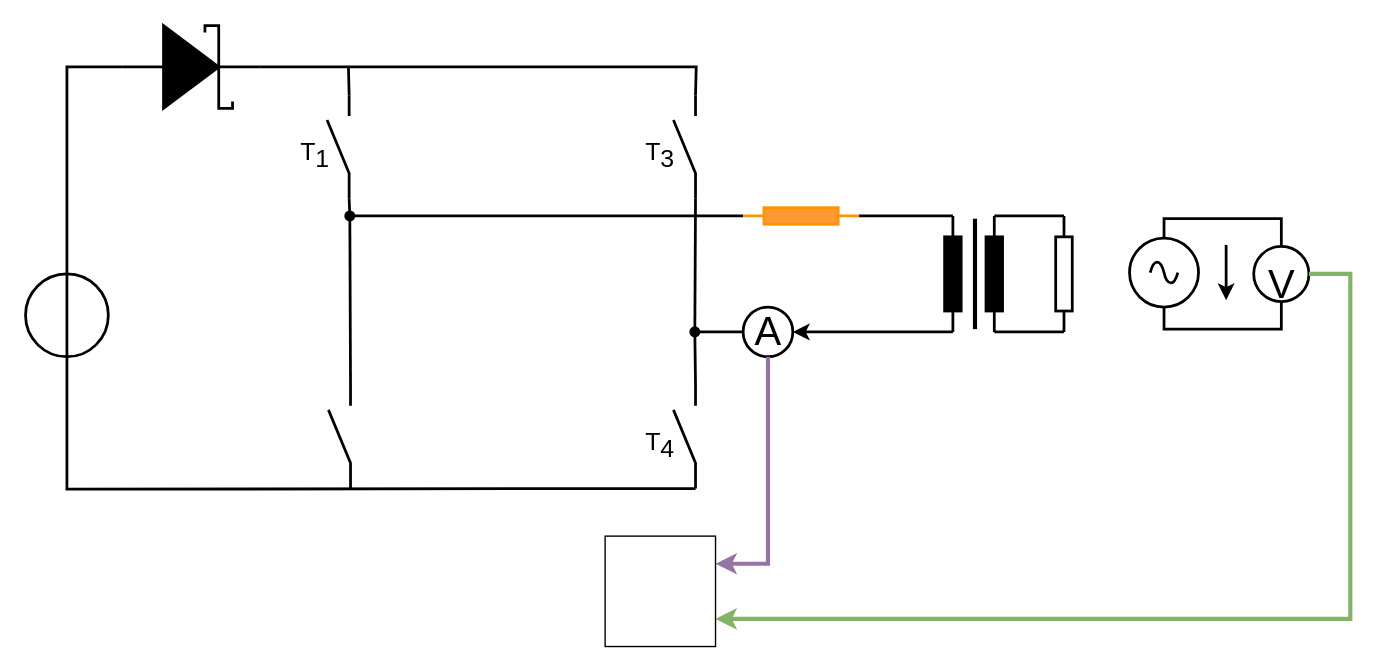
The diagram is 1387 pixels wide and 671 high, and some of its shapes have lost their labels. Each missing label, with the box of its shape:
Osziloscope: (604, 535, 716, 647)
T 2: (326, 383, 351, 489)
